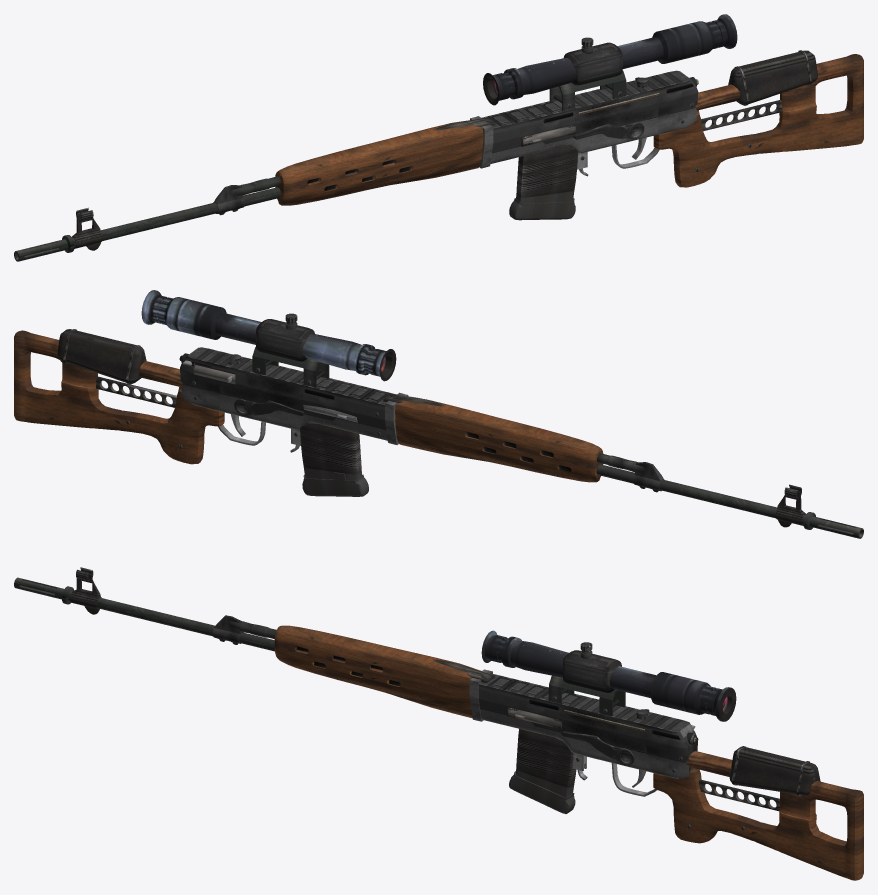
Rendered from Dragunov 3D models (3).FBX.
3 renders of one model, top to bottom at view 1: azimuth 30°, elevation 25°; view 2: azimuth 150°, elevation 25°; view 3: azimuth 330°, elevation 25°, orthographic.
Parts seen in each view (by area): view 1: Sv Sniper (3disland.blogspot.com); view 2: Sv Sniper (3disland.blogspot.com); view 3: Sv Sniper (3disland.blogspot.com).
Boxes of the visible parts, bbox=[...] form: Sv Sniper (3disland.blogspot.com): bbox=[14, 14, 863, 261]; Sv Sniper (3disland.blogspot.com): bbox=[14, 290, 863, 538]; Sv Sniper (3disland.blogspot.com): bbox=[14, 567, 863, 880].
Size of the model in its own units: 368 by 71.95 by 15.02.
